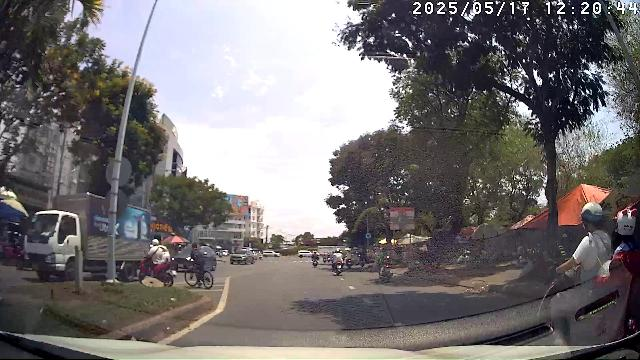303-noi-giao-nhau-chay-theo-vong-xuyen: (365, 233, 371, 239)
